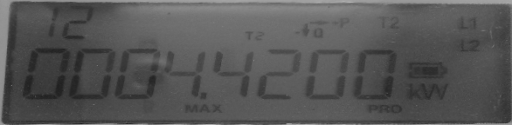0: (21, 45, 72, 107), (67, 42, 118, 104), (109, 43, 160, 105), (302, 39, 353, 101), (351, 42, 402, 104)
2: (256, 43, 307, 105)
4: (156, 40, 207, 102), (209, 40, 260, 102)
d: (197, 85, 213, 104)
